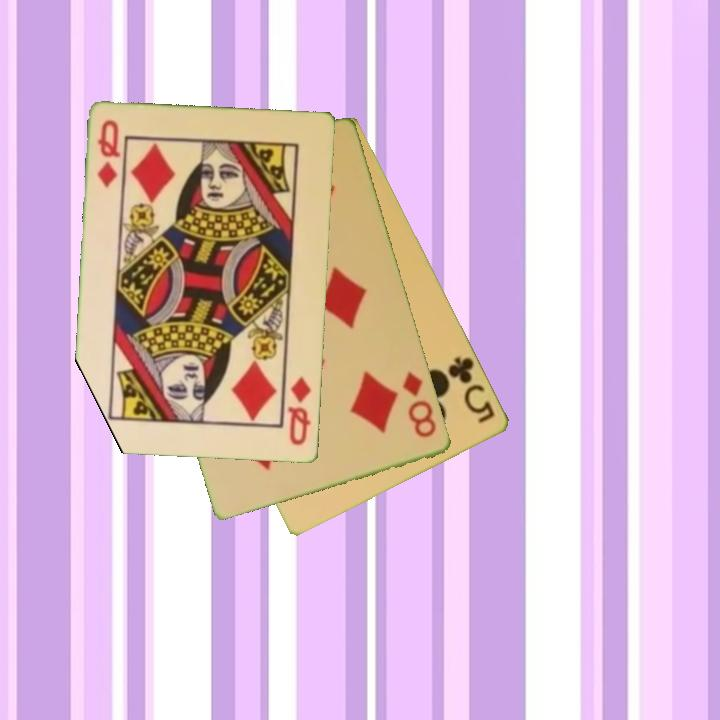5c: (444, 353, 499, 427)
8d: (400, 368, 440, 441)
Qd: (284, 373, 314, 449), (94, 116, 124, 191)
